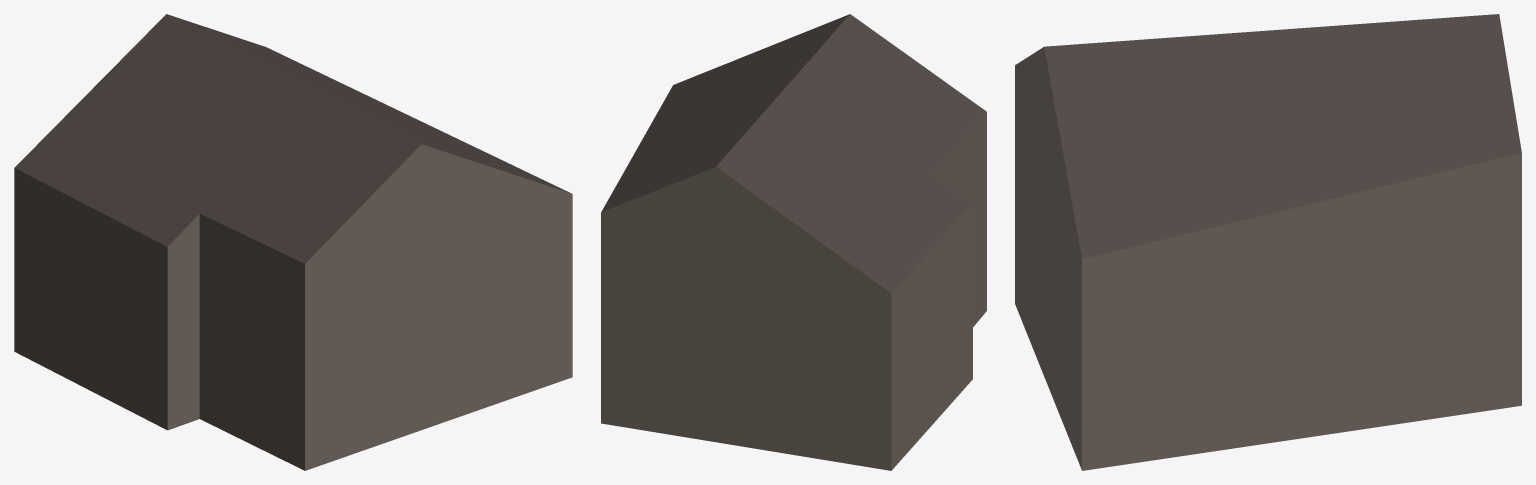
The picture shows the model from 3 angles, left to right: view 1: azimuth 30°, elevation 25°; view 2: azimuth 150°, elevation 25°; view 3: azimuth 270°, elevation 25°; orthographic projection. The views are drawn at different scales.
Visible parts, largest first — view 1: HP-w1196661454; view 2: HP-w1196661454; view 3: HP-w1196661454.
Boxes of the visible parts, x1,y1,x2,y2 form: HP-w1196661454: [14, 14, 572, 470]; HP-w1196661454: [601, 14, 986, 470]; HP-w1196661454: [1015, 14, 1521, 470].
Size of the model in its own units: 20.13 by 14.03 by 19.52.
